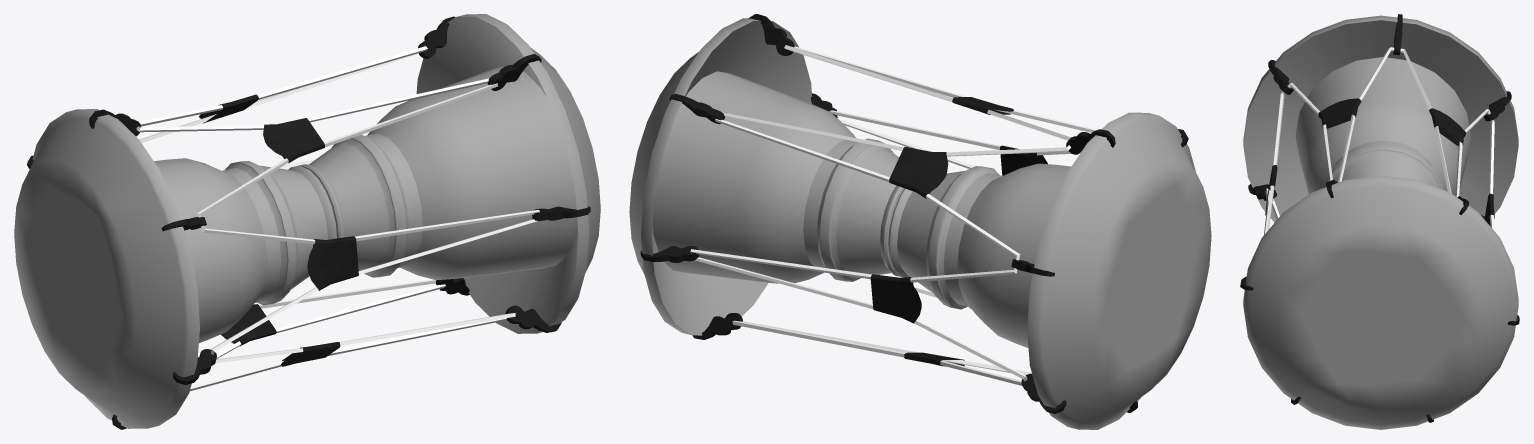
The model's file is Janggu.fbx.
The picture shows the model from 3 angles, left to right: view 1: azimuth 30°, elevation 25°; view 2: azimuth 150°, elevation 25°; view 3: azimuth 270°, elevation 25°; orthographic projection. The views are drawn at different scales.
Visible parts, largest first — view 1: pCylinder7, pDisc2, Janggu-Body_LoRes, pDisc1; view 2: pCylinder7, pDisc2, Janggu-Body_LoRes, pDisc1; view 3: pDisc1, pDisc2, pCylinder7, Janggu-Body_LoRes.
Part boxes in pixels (x1,y1,x2,y2): pCylinder7: (154, 66, 577, 342); pDisc2: (14, 109, 199, 428); Janggu-Body_LoRes: (27, 16, 590, 429); pDisc1: (416, 14, 600, 333); pCylinder7: (652, 71, 1070, 347); pDisc2: (1027, 112, 1211, 429); Janggu-Body_LoRes: (640, 14, 1188, 413); pDisc1: (629, 18, 812, 335); pDisc1: (1243, 175, 1518, 429); pDisc2: (1243, 15, 1518, 222); pCylinder7: (1295, 57, 1470, 195); Janggu-Body_LoRes: (1240, 14, 1519, 422).
Bounding box in the file's own units: 16.77 × 10.36 × 10.36.
